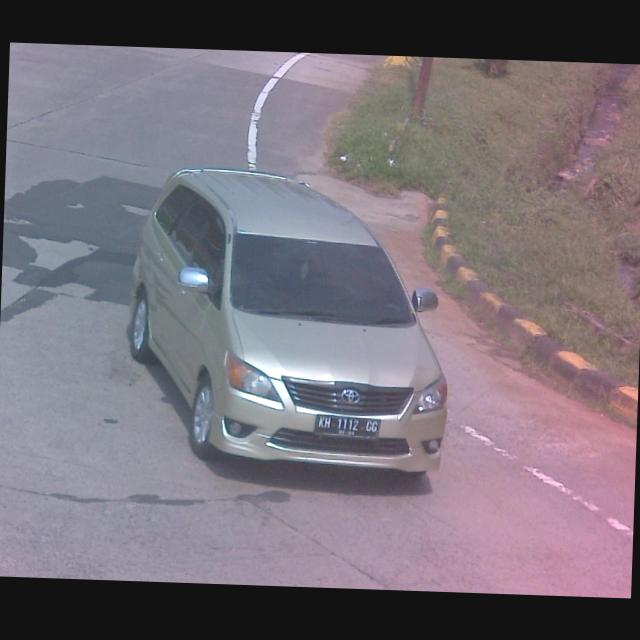plate: (313, 410, 380, 440)
